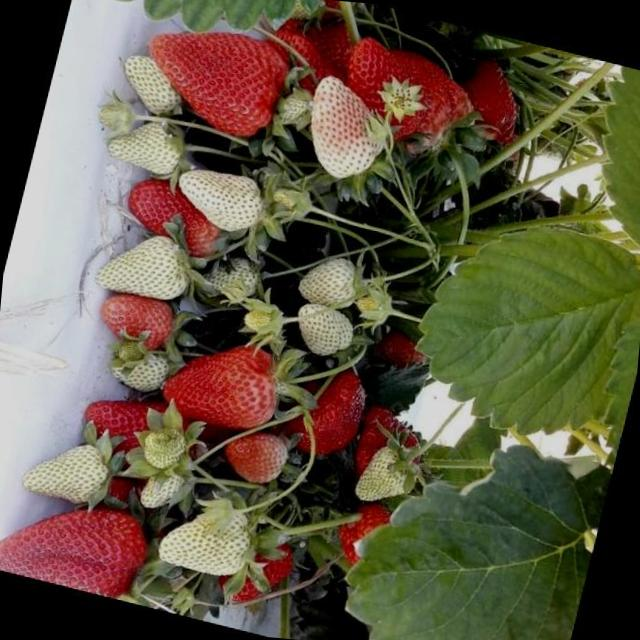ripe: (130, 10, 290, 146), (0, 476, 156, 604), (148, 324, 295, 454), (330, 33, 480, 156), (109, 170, 232, 260), (275, 356, 374, 466), (449, 52, 528, 154), (336, 403, 425, 492), (88, 279, 179, 364), (70, 384, 176, 456), (223, 533, 302, 622), (332, 493, 397, 572), (296, 9, 366, 66), (374, 326, 430, 372)
